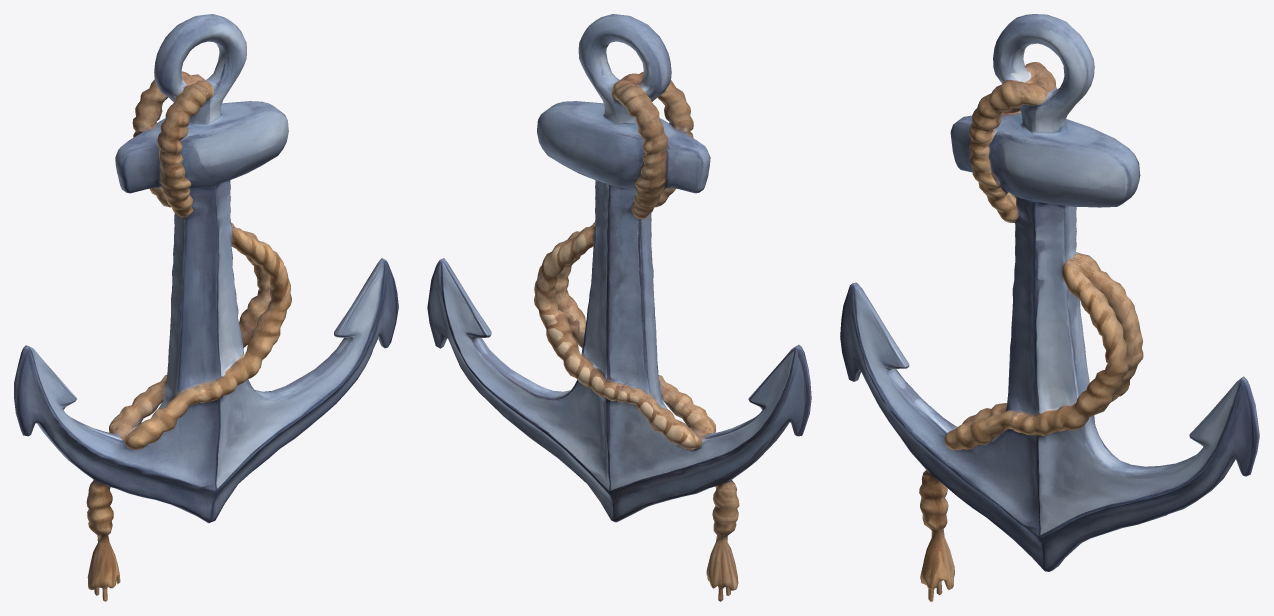
File: blue-anchor.glb
3 renders of one model, left to right at view 1: azimuth 30°, elevation 25°; view 2: azimuth 150°, elevation 25°; view 3: azimuth 330°, elevation 25°, orthographic. The views are drawn at different scales.
Size of the model in its own units: 1.37 by 1.91 by 0.2466.
Materials: 1 (1 with a texture image).
